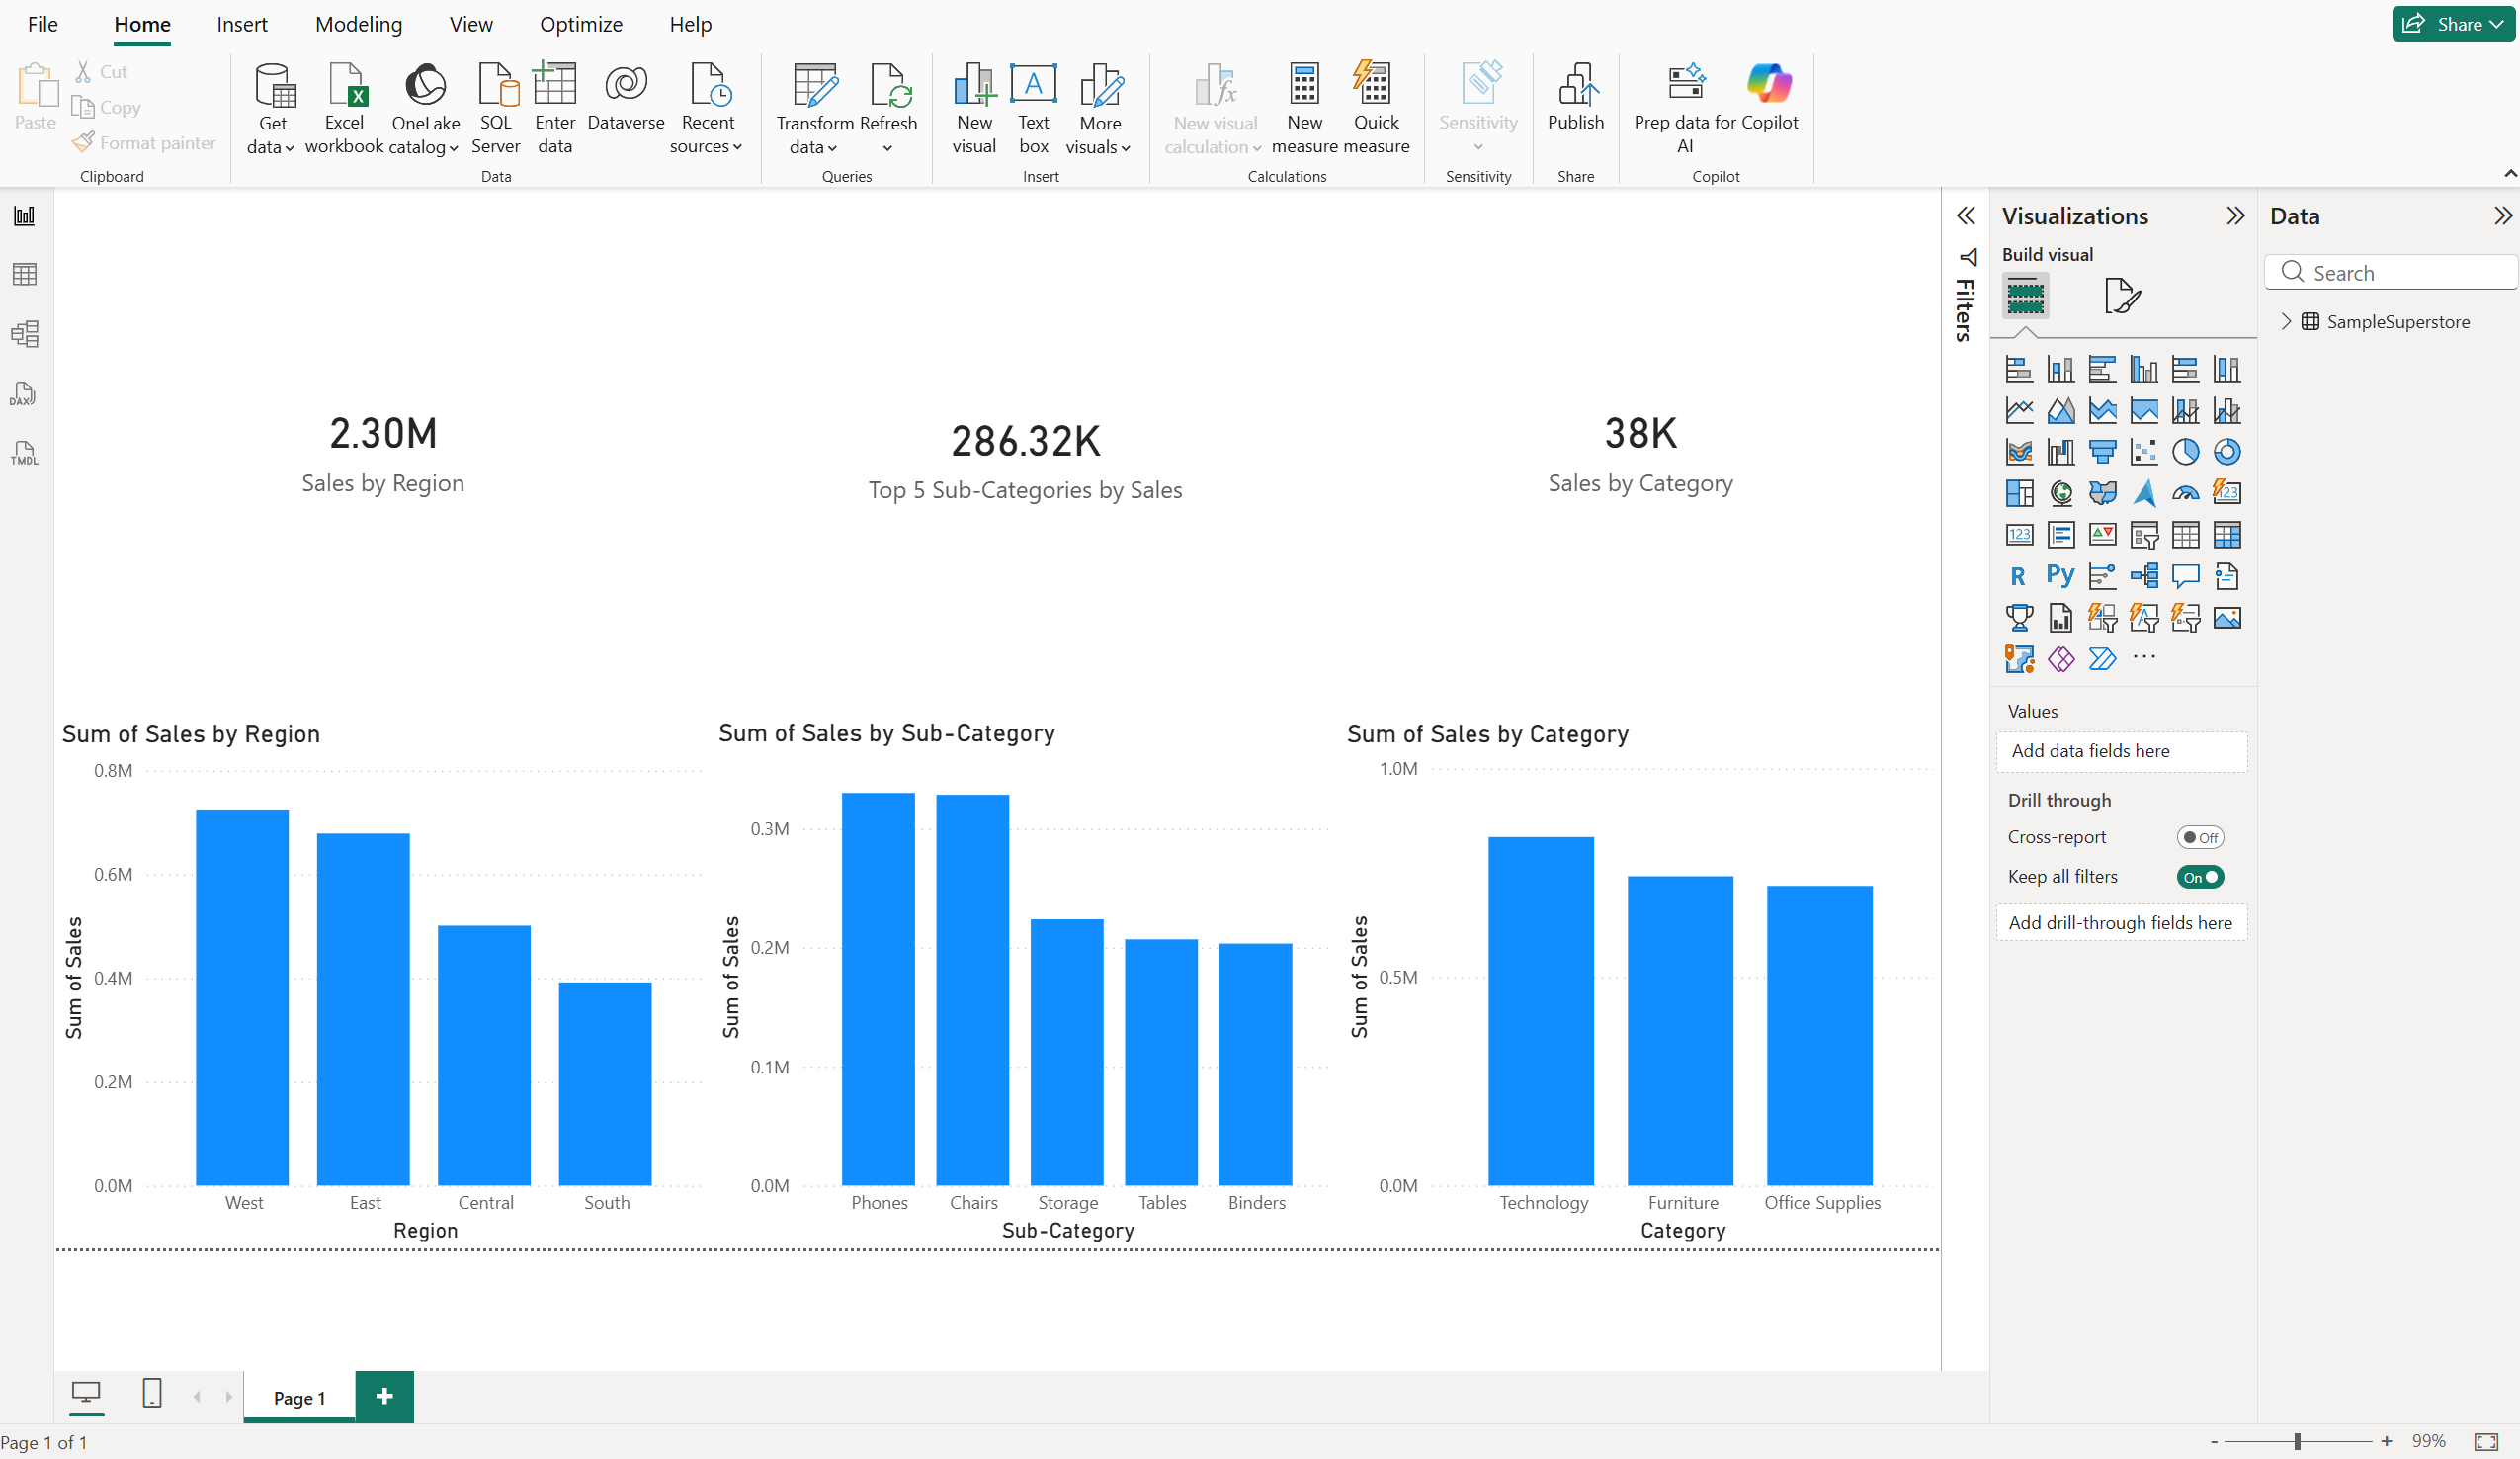

This screenshot's page, from the dashboard's own definition file:
{"tool":"powerbi","page":{"name":"Page 1","canvas":[1280,720],"ordinal":0},"visuals":[{"type":"clusteredColumnChart","fields":{"Category":["SampleSuperstore.Region"],"Y":["Sum(SampleSuperstore.Sales)"]},"box":[0,361.1,445.6,359.1],"z":0},{"type":"clusteredColumnChart","fields":{"Category":["SampleSuperstore.Category"],"Y":["Sum(SampleSuperstore.Sales)"]},"box":[872,361.1,408.3,359.1],"z":1000},{"type":"clusteredColumnChart","fields":{"Category":["SampleSuperstore.Sub-Category"],"Y":["Sum(SampleSuperstore.Sales)"]},"box":[445.6,360.1,426.4,360.1],"z":2000},{"type":"card","fields":{"Values":["Sum(SampleSuperstore.Sales)"]},"box":[0,0,445.6,351],"z":2001},{"type":"card","fields":{"Values":["Sum(SampleSuperstore.Profit)"]},"box":[445.6,10.1,426.4,341],"z":2002},{"type":"card","fields":{"Values":["Sum(SampleSuperstore.Quantity)"]},"box":[872,0,408.3,351],"z":2003}]}

Visuals, with their boxes on the page's 1280x720 design canvas (x1, y1, x2, y2). These are canvas units, not pixel positions in the 2520x1459 screenshot, which may show the page scaled, cropped or inside an application window:
clusteredColumnChart - SampleSuperstore.Region x Sum(SampleSuperstore.Sales): 0, 361, 446, 720
clusteredColumnChart - SampleSuperstore.Category x Sum(SampleSuperstore.Sales): 872, 361, 1280, 720
clusteredColumnChart - SampleSuperstore.Sub-Category x Sum(SampleSuperstore.Sales): 446, 360, 872, 720
card - Sum(SampleSuperstore.Sales): 0, 0, 446, 351
card - Sum(SampleSuperstore.Profit): 446, 10, 872, 351
card - Sum(SampleSuperstore.Quantity): 872, 0, 1280, 351
